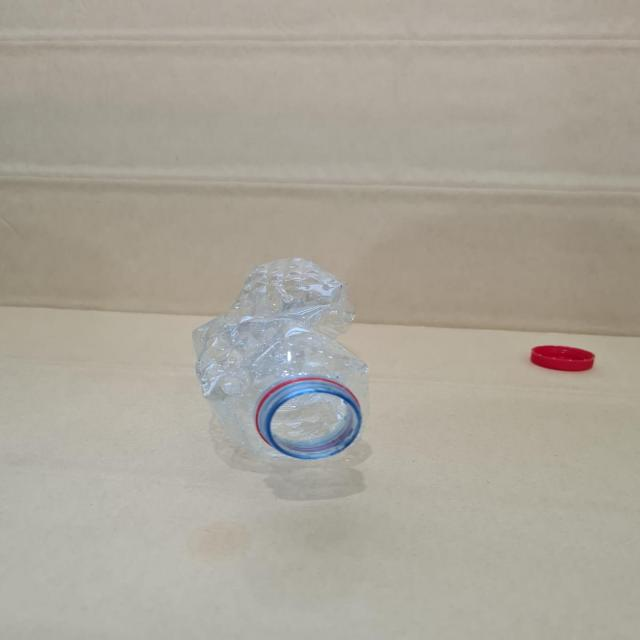bottle: (181, 255, 388, 484)
